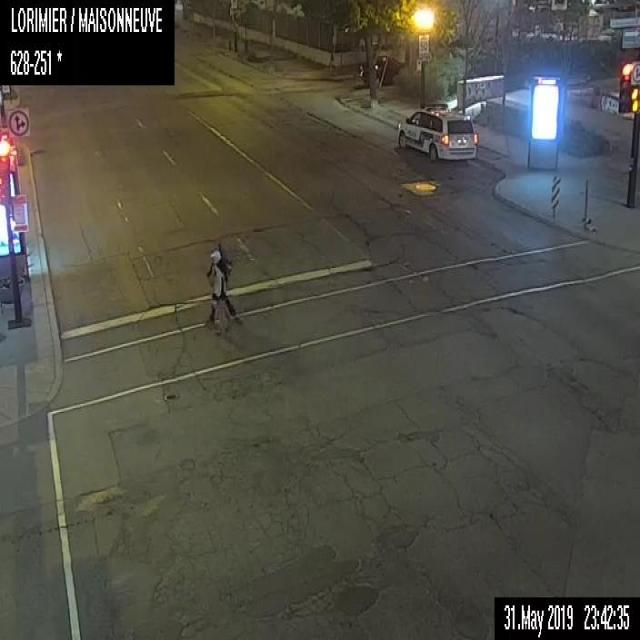pedestrian: (205, 245, 239, 322)
vehicle: (395, 106, 479, 162), (355, 54, 404, 84)
